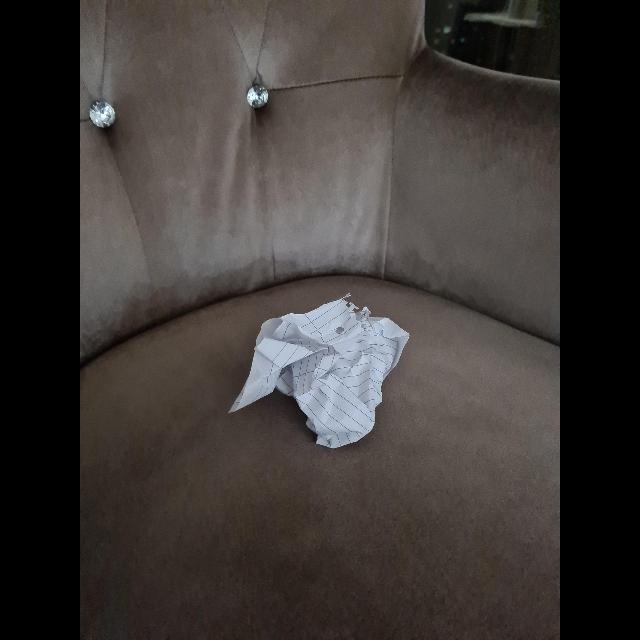scrap_paper: (242, 292, 408, 450)
